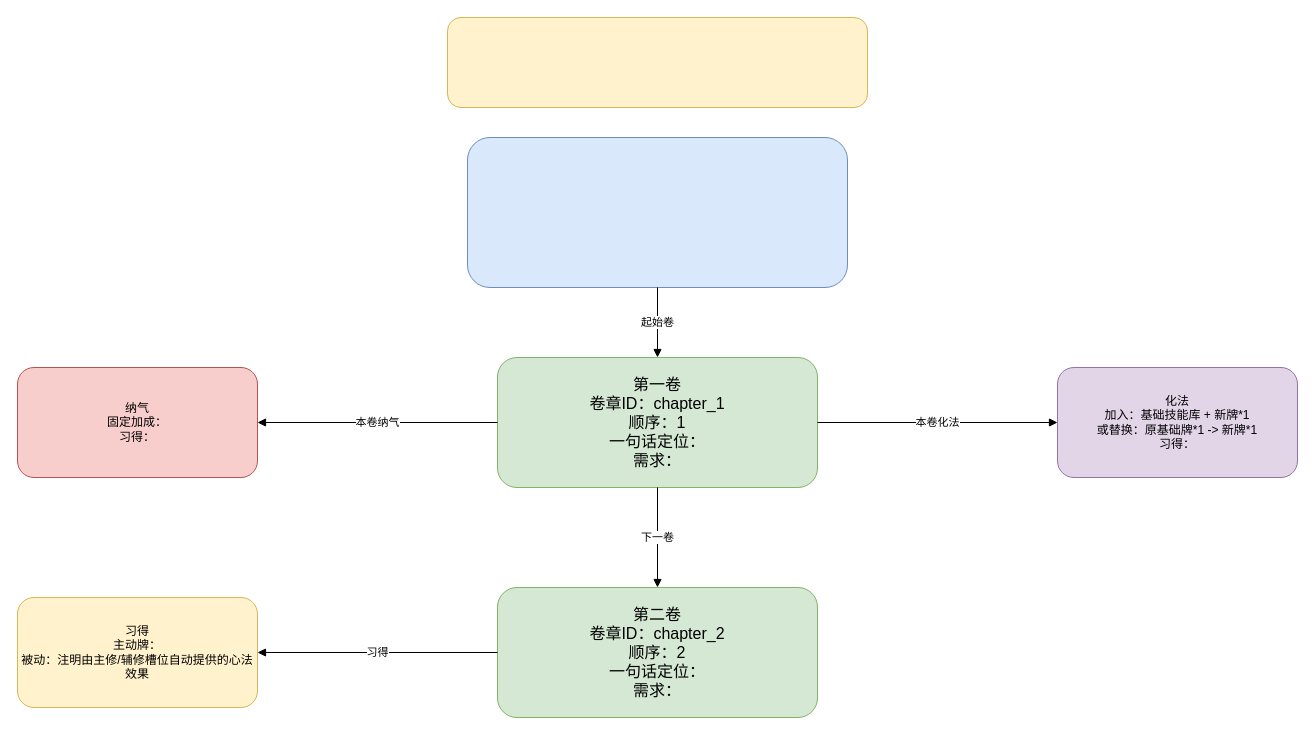
Some shapes in this 1315 by 735 pixel diagram are drawn without their labels. The shapes that lost their labels are listed below. From the top down, each one's centre as x and y in pixels, then its label:
the point at 657,62: 秘籍词条模板 从上往下=卷章主链 左右延伸：纳气 / 化法 / 习得 / 状态
the point at 657,212: 秘籍总览 秘籍名：示例秘籍 五行：NONE 定位： 主修/辅修：true / true 需求境界：
